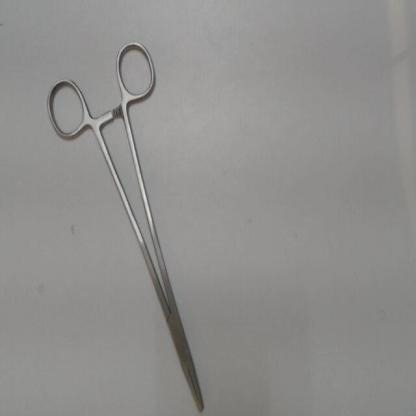8 Mayo Needle Holder: (41, 36, 214, 415)
